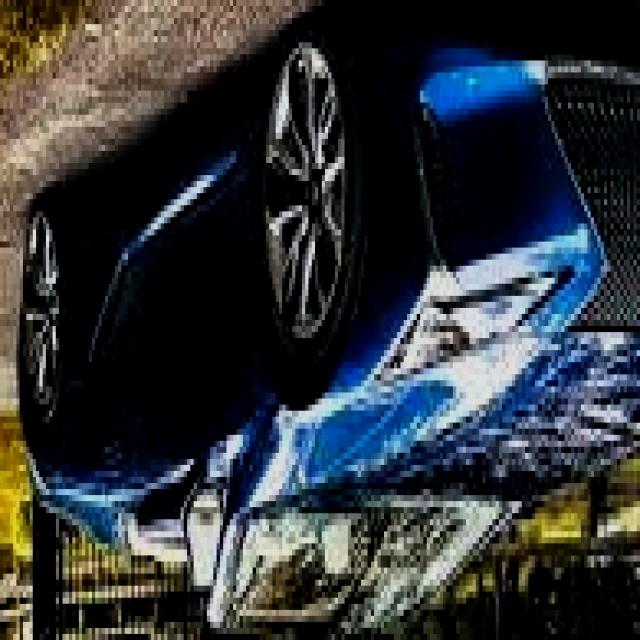blue: (17, 0, 637, 628)
